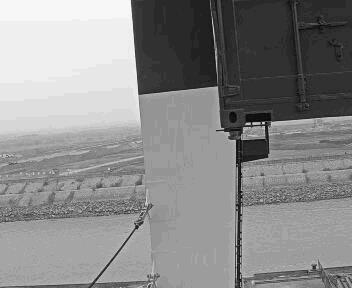twist_lock_1: (188, 124, 213, 146)
